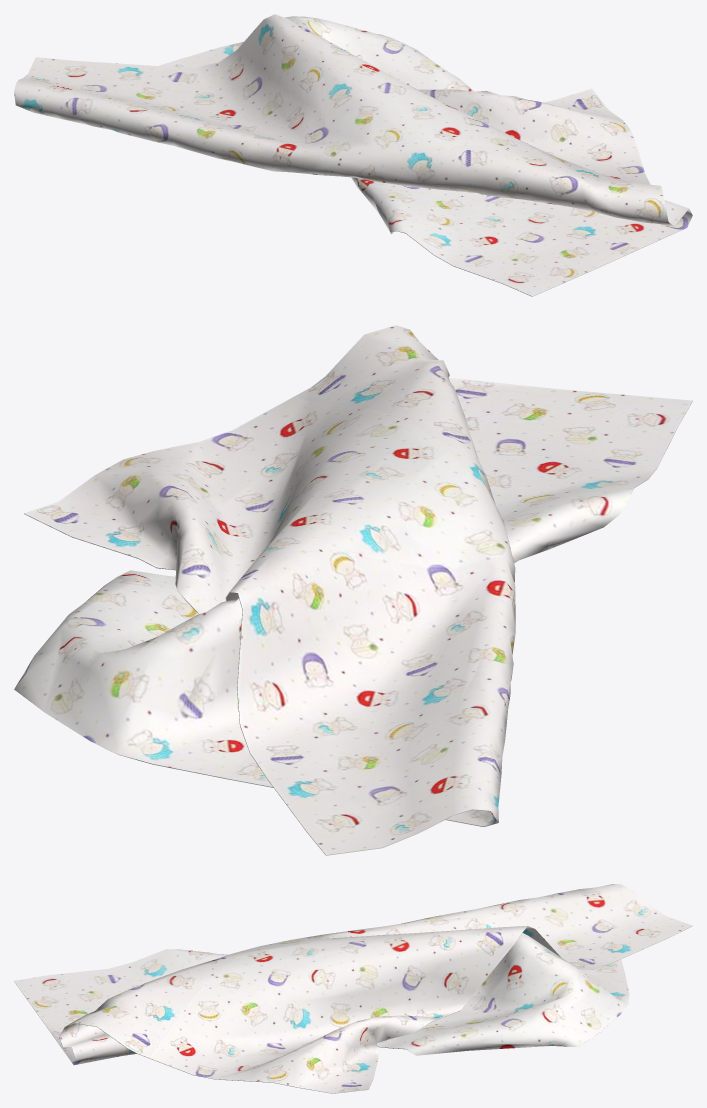
File: Clothing 1.FBX
The picture shows the model from 3 angles, top to bottom: view 1: azimuth 30°, elevation 25°; view 2: azimuth 150°, elevation 25°; view 3: azimuth 270°, elevation 25°; orthographic projection. The views are drawn at different scales.
Visible parts, largest first — view 1: clothing 1; view 2: clothing 1; view 3: clothing 1.
Boxes of the visible parts, x1,y1,x2,y2 form: clothing 1: (14, 14, 692, 296); clothing 1: (14, 325, 692, 855); clothing 1: (14, 884, 692, 1093).
Size of the model in its own units: 39.83 by 6.83 by 57.28.
1 material, 1 textured.
